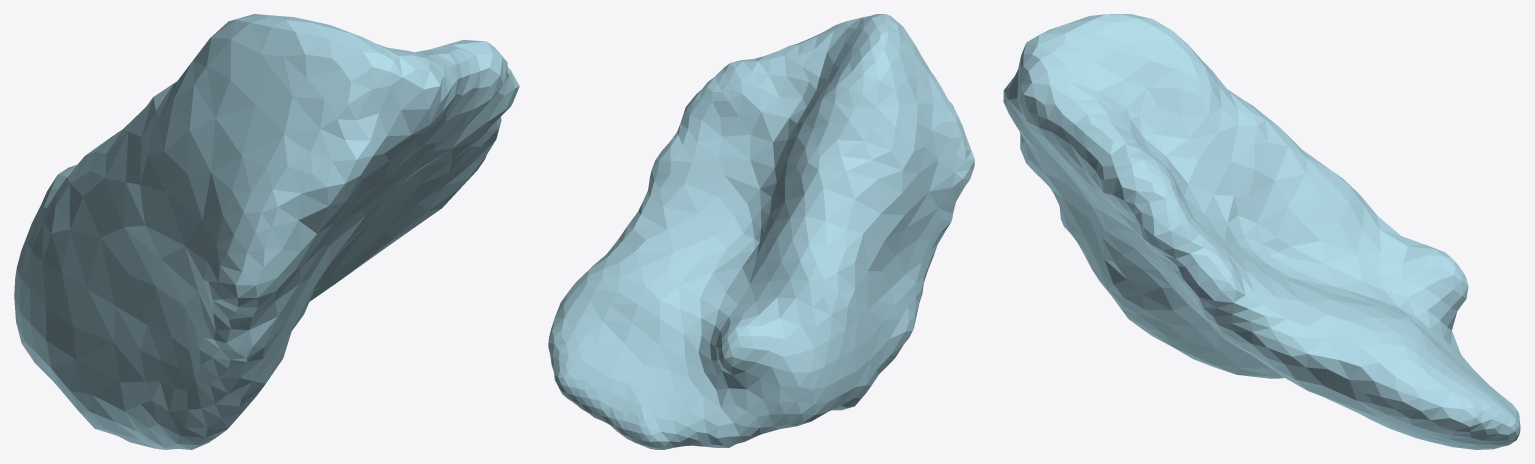
Rendered from leftsurrenalgland.obj.
3 views of the same model, side by side, from view 1: azimuth 30°, elevation 25°; view 2: azimuth 150°, elevation 25°; view 3: azimuth 270°, elevation 25° (orthographic). The views are drawn at different scales.
Visible parts, largest first — view 1: grp1; view 2: grp1; view 3: grp1.
Boxes of the visible parts, <box> form: grp1: <box>14,14,519,449</box>; grp1: <box>548,14,974,449</box>; grp1: <box>1003,14,1520,449</box>.
Bounding box in the file's own units: 29.25 × 34.14 × 41.3.
